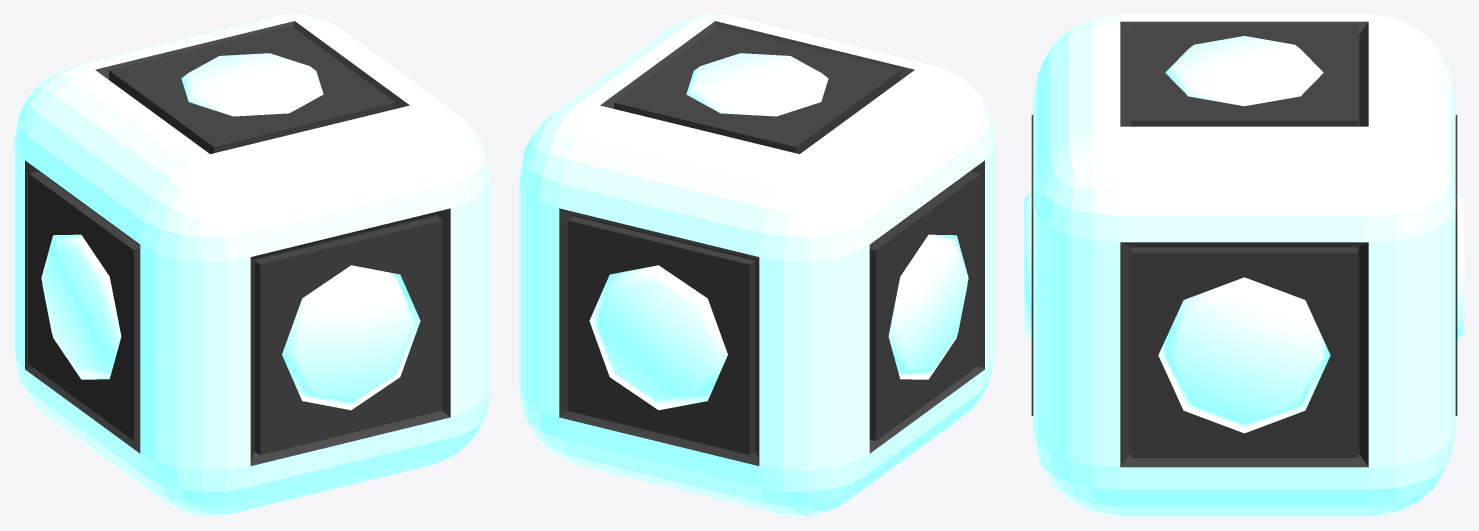
File: drone.fbx
The picture shows the model from 3 angles, left to right: view 1: azimuth 30°, elevation 25°; view 2: azimuth 150°, elevation 25°; view 3: azimuth 270°, elevation 25°; orthographic projection. The views are drawn at different scales.
Parts seen in each view (by area): view 1: Cylinder; view 2: Cylinder; view 3: Cylinder.
Boxes of the visible parts, box(x1,y1,x2,y2) form: Cylinder: box(14, 14, 490, 516); Cylinder: box(519, 14, 995, 516); Cylinder: box(1024, 14, 1464, 516).
Size of the model in its own units: 208 by 208 by 208.
